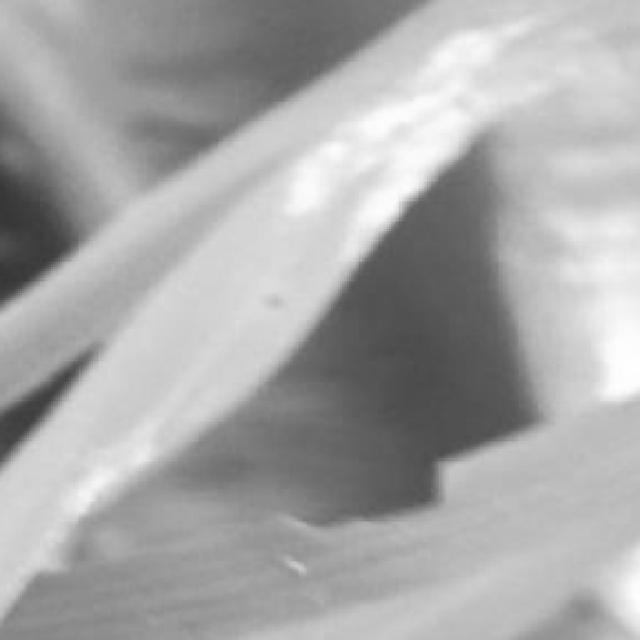Leaf_Blast: (273, 13, 589, 267), (13, 389, 191, 575)
